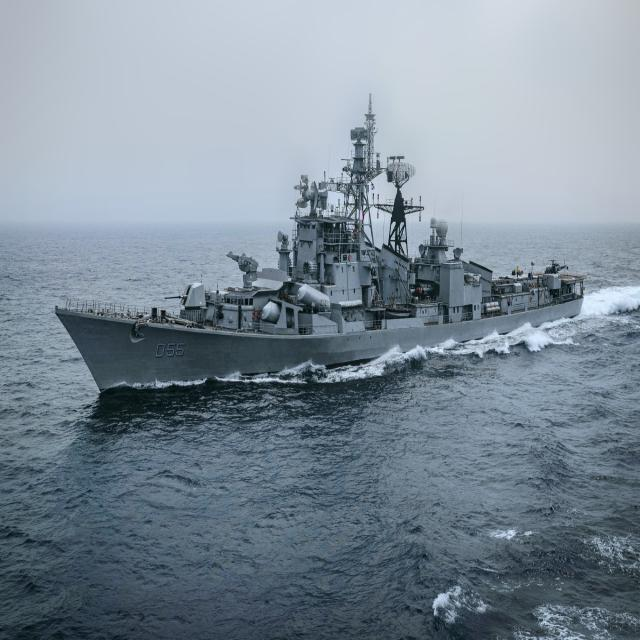navalvessels: (39, 116, 604, 392)
